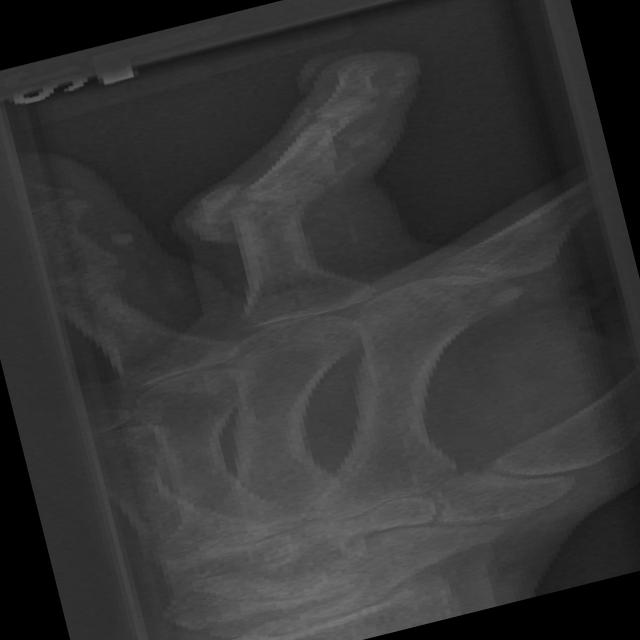fingers positive: (182, 161, 364, 237), (277, 81, 390, 162)
